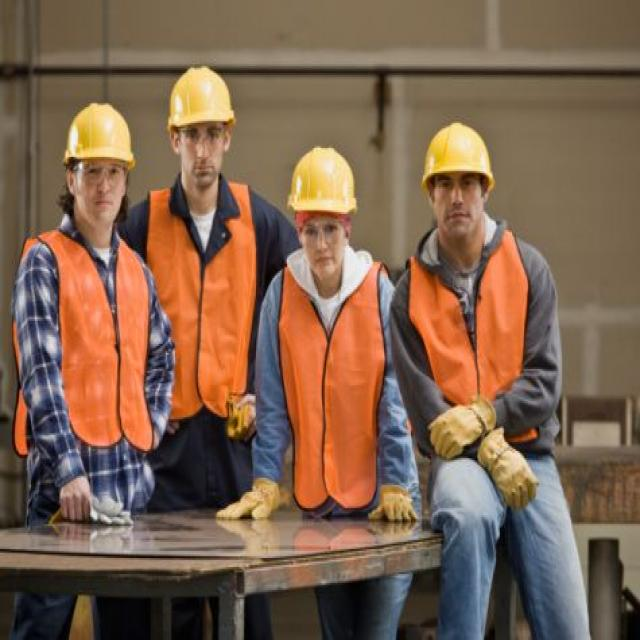Reflective-Jacket: (8, 226, 156, 460), (404, 234, 546, 466), (272, 255, 388, 515), (143, 187, 264, 423)
Safety-Helmet: (287, 141, 360, 221), (61, 95, 136, 171), (418, 118, 497, 190), (163, 60, 237, 134)
